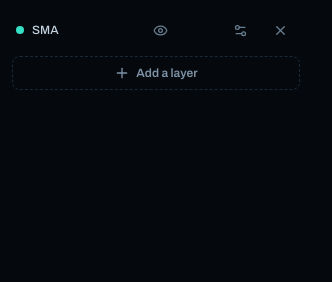
Test case: LayerPanel › opens one layer onto its own knobs, not a drawer of every layer
This screenshot has width=332, height=282.
Click the button named " settings".
click(240, 30)  # box x1=224 y1=14 x2=256 y2=46
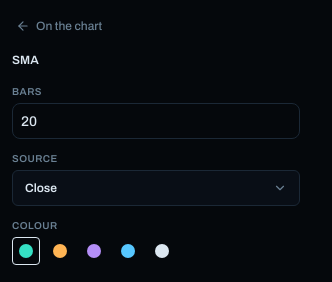
Check: the number field labelled "Bars" is shown, box x1=12 y1=103 x2=300 y2=139
